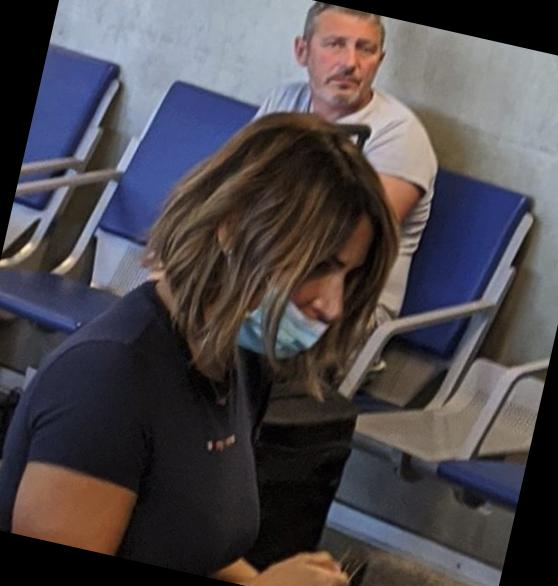mask_weared_incorrect: (244, 241, 368, 379)
without_mask: (297, 17, 390, 107)
